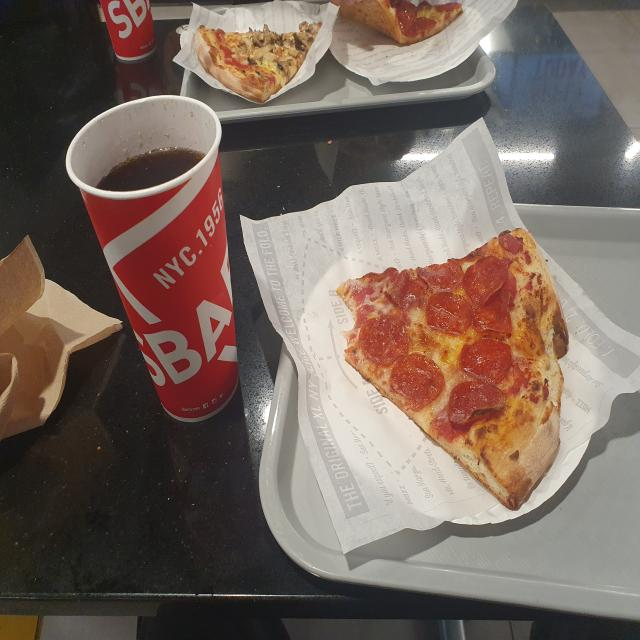Cup: (65, 94, 239, 423), (94, 2, 160, 63)
Plate: (294, 192, 640, 574), (178, 0, 339, 106), (329, 0, 518, 86)
